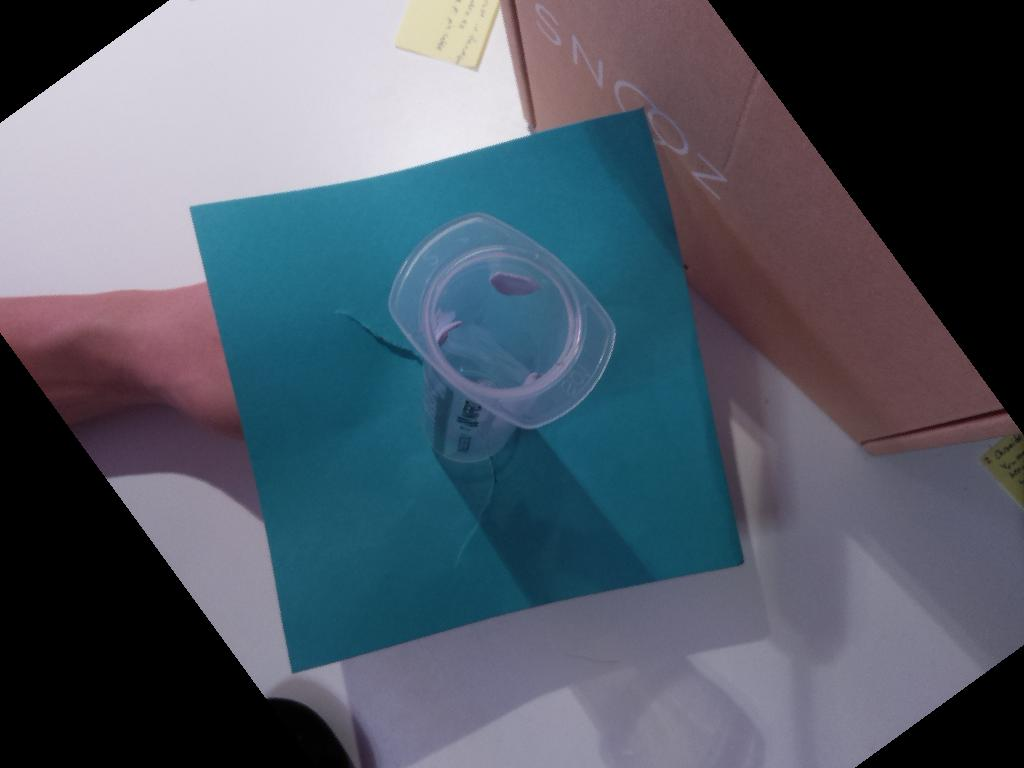dirty: (387, 211, 616, 426)
